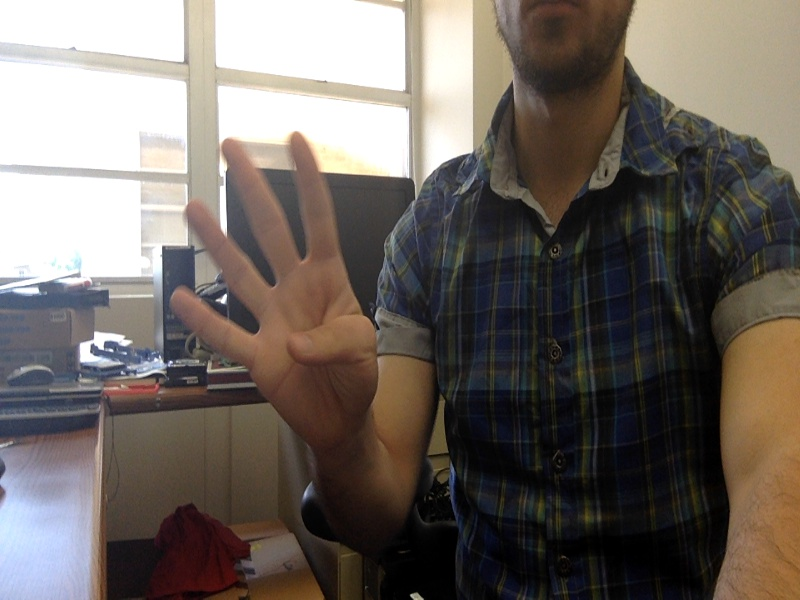4-hand: (166, 134, 380, 455)
